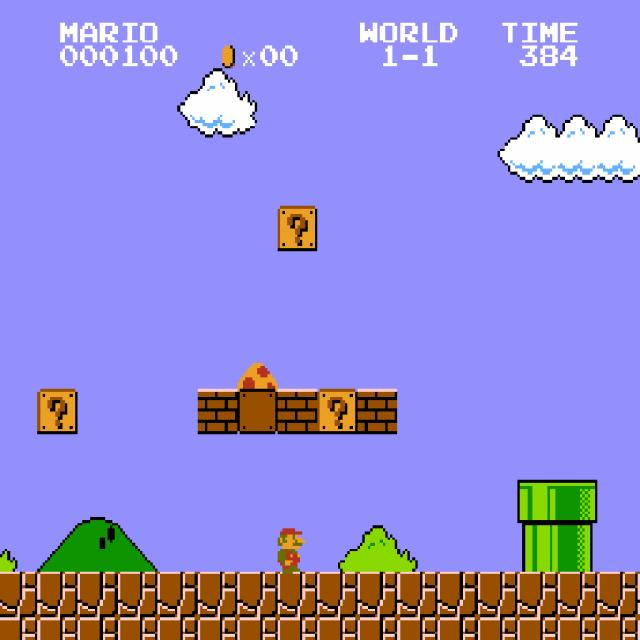brick_block: (197, 389, 238, 434), (277, 389, 318, 434), (357, 389, 398, 434)
empty_block: (237, 389, 278, 434)
little_mario: (268, 526, 310, 574)
mushroom: (235, 361, 278, 392)
mystery_block: (37, 389, 78, 434), (277, 206, 318, 251), (317, 389, 358, 434)
pipe: (517, 526, 558, 571), (557, 526, 598, 571)
pipe_head: (517, 480, 558, 526), (557, 480, 598, 526)
undestructible_block: (37, 572, 78, 617), (77, 572, 118, 617), (117, 572, 158, 617), (157, 572, 198, 617), (197, 572, 238, 617), (237, 572, 278, 617), (277, 572, 318, 617), (317, 572, 358, 617), (357, 572, 398, 617), (397, 572, 438, 617), (437, 572, 478, 617), (477, 572, 518, 617), (517, 572, 558, 617), (557, 572, 598, 617), (597, 572, 638, 617), (0, 572, 37, 617), (37, 617, 78, 640), (77, 617, 118, 640), (117, 617, 158, 640), (157, 617, 198, 640), (197, 617, 238, 640), (237, 617, 278, 640), (277, 617, 318, 640), (317, 617, 358, 640), (357, 617, 398, 640), (397, 617, 438, 640), (437, 617, 478, 640), (477, 617, 518, 640), (517, 617, 558, 640), (557, 617, 598, 640), (597, 617, 638, 640), (0, 617, 37, 640), (637, 571, 640, 617), (637, 617, 640, 639)
